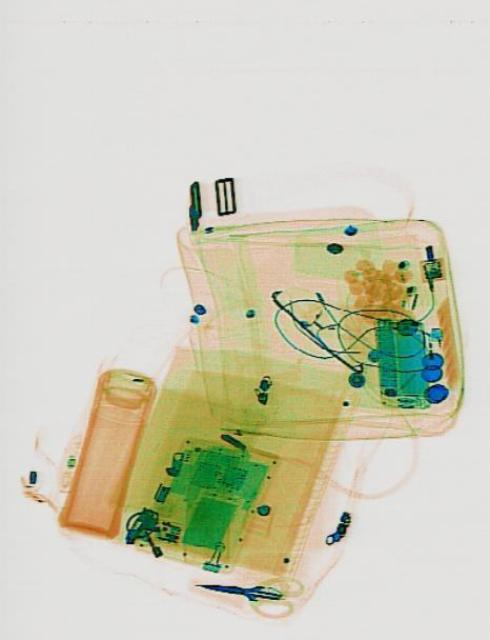Knife: (193, 577, 279, 603)
